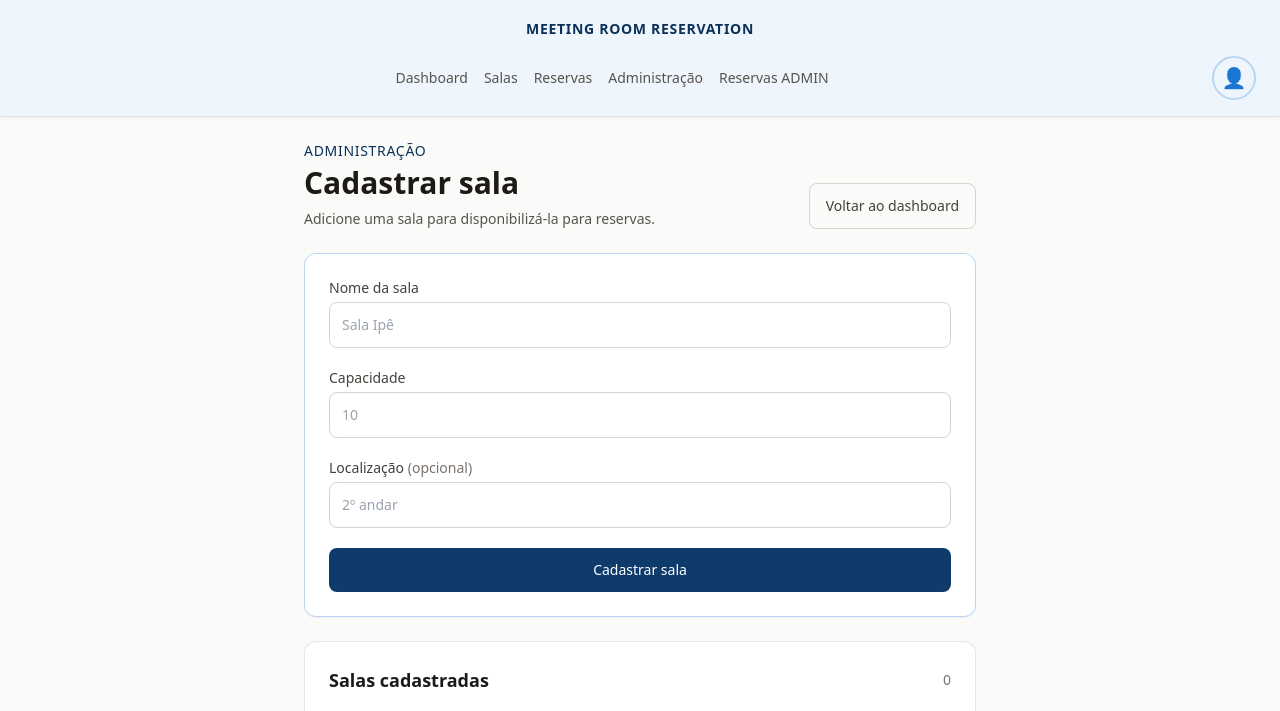
Test: AdminRoomsPage › lets admins create a room
Step 1. Type "Sala Azul" into the field labelled "Nome da sala" → (640, 325), box top-left (329, 302), bottom-right (951, 348)
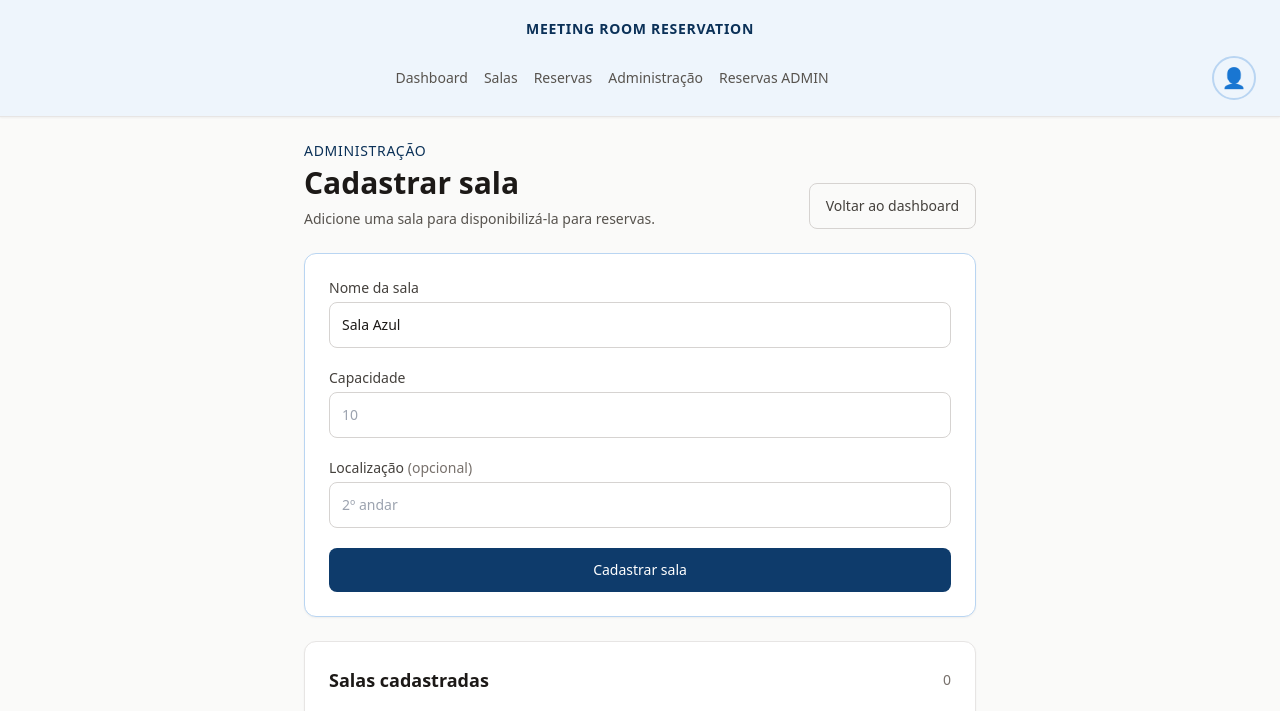
Step 2. Type "8" into the number field labelled "Capacidade" → (640, 415), box top-left (329, 392), bottom-right (951, 438)
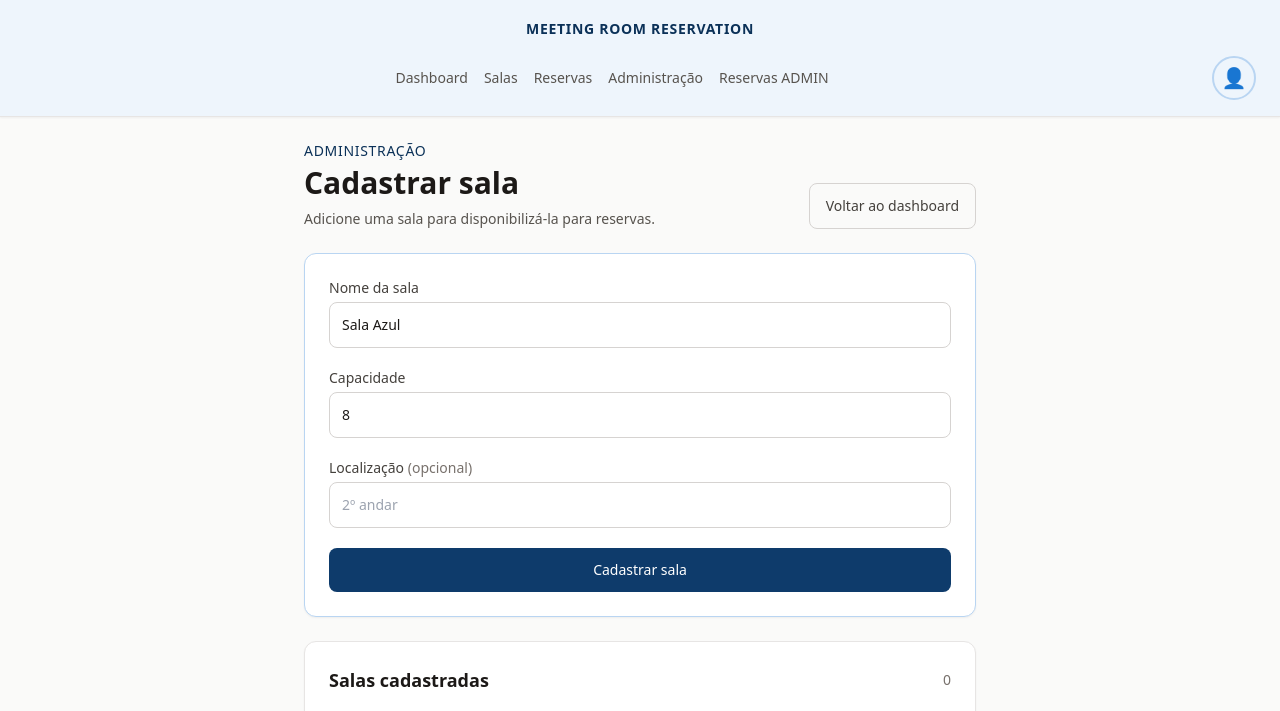
Step 3. Click the button "Cadastrar sala" → (640, 570), box top-left (329, 548), bottom-right (951, 592)
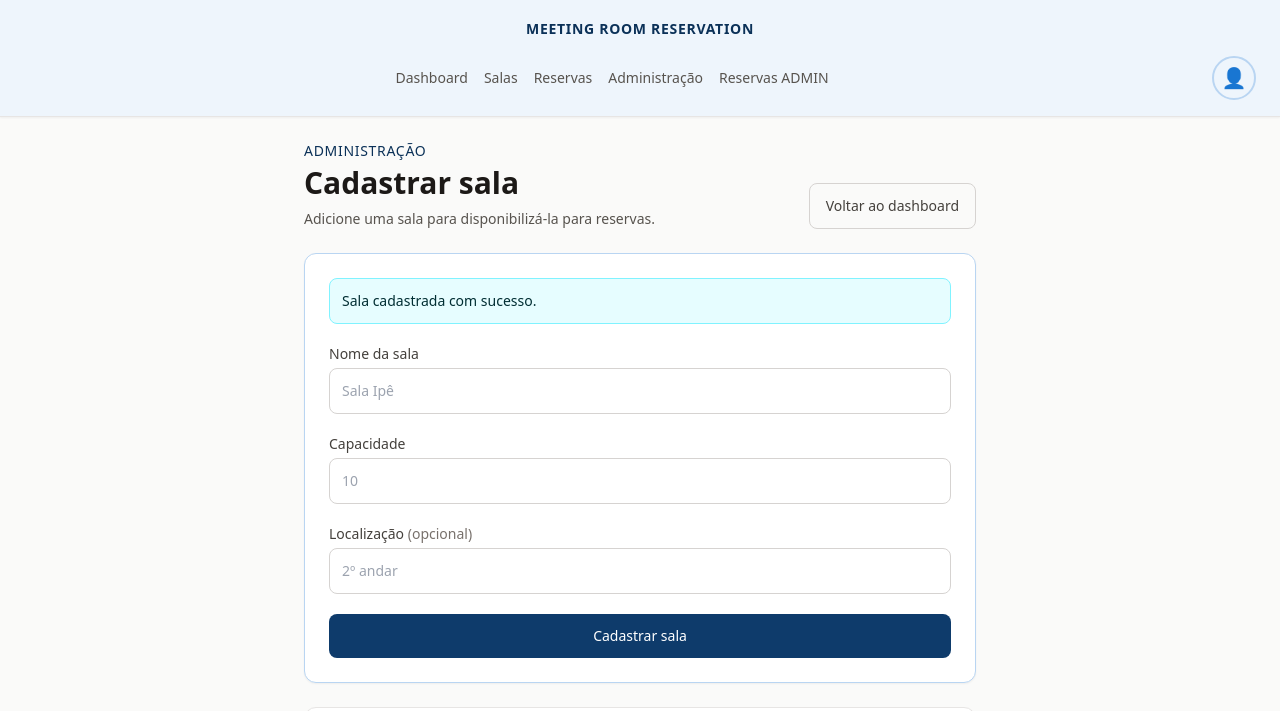
Expected: the text "Sala cadastrada com sucesso." is shown, top-left (329, 278), bottom-right (951, 324)
